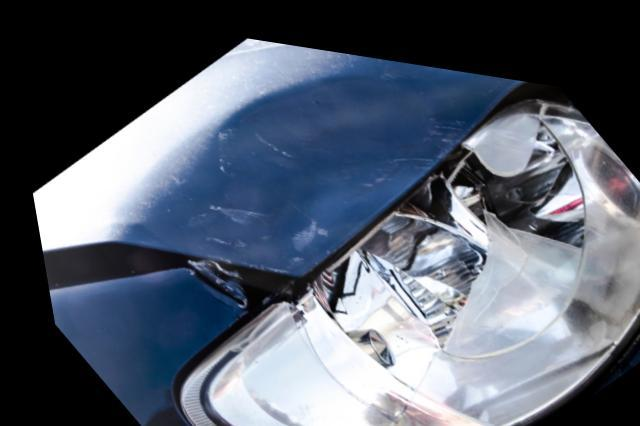dent: (112, 62, 521, 267)
dislocated part: (26, 30, 575, 309)
lamp broken: (175, 74, 640, 426)
